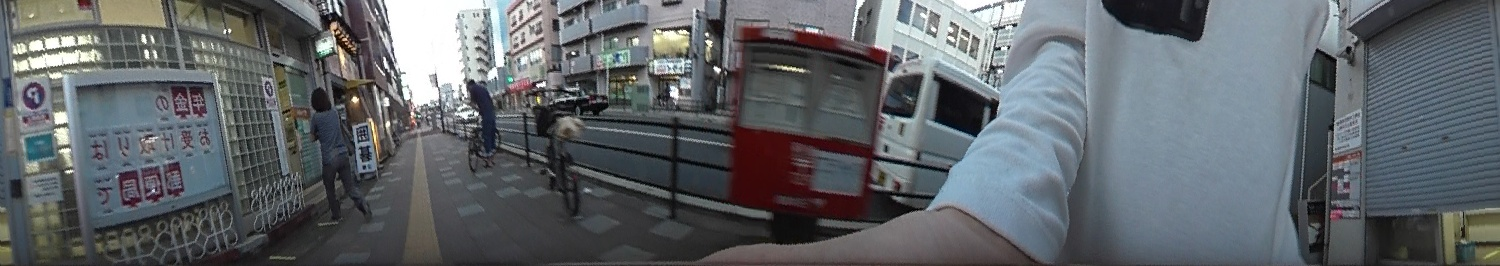person: (302, 85, 376, 225), (456, 73, 502, 169)
